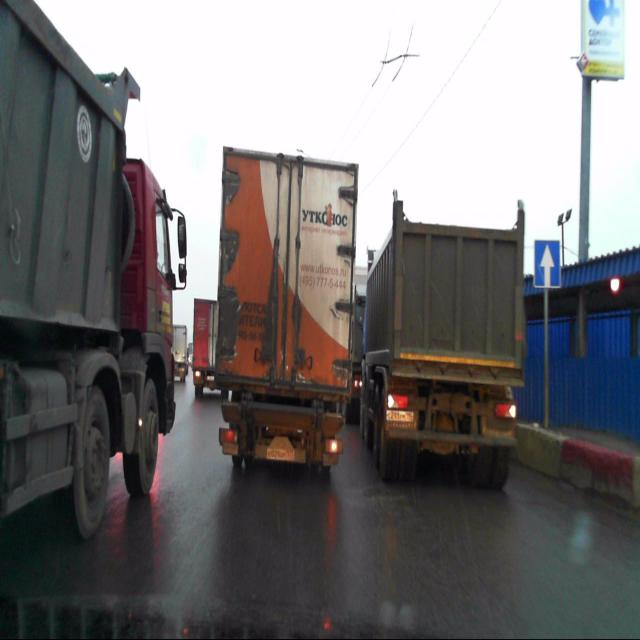road sign: (534, 239, 560, 287)
